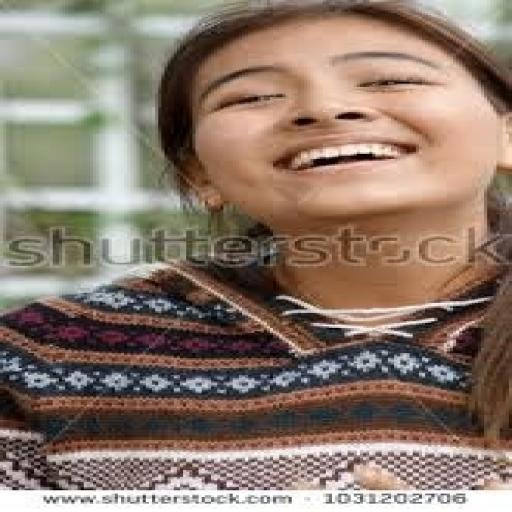laughing: (0, 0, 509, 489)
